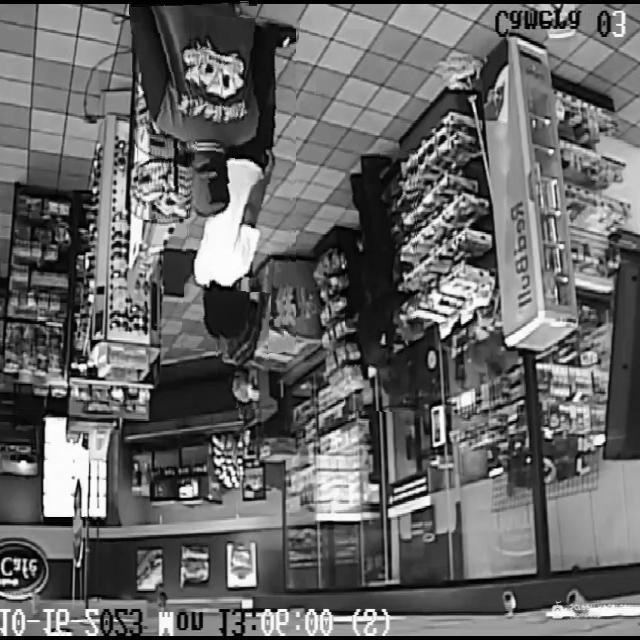Normal: (186, 16, 296, 352), (131, 0, 257, 219), (346, 151, 418, 411), (216, 291, 269, 409)
